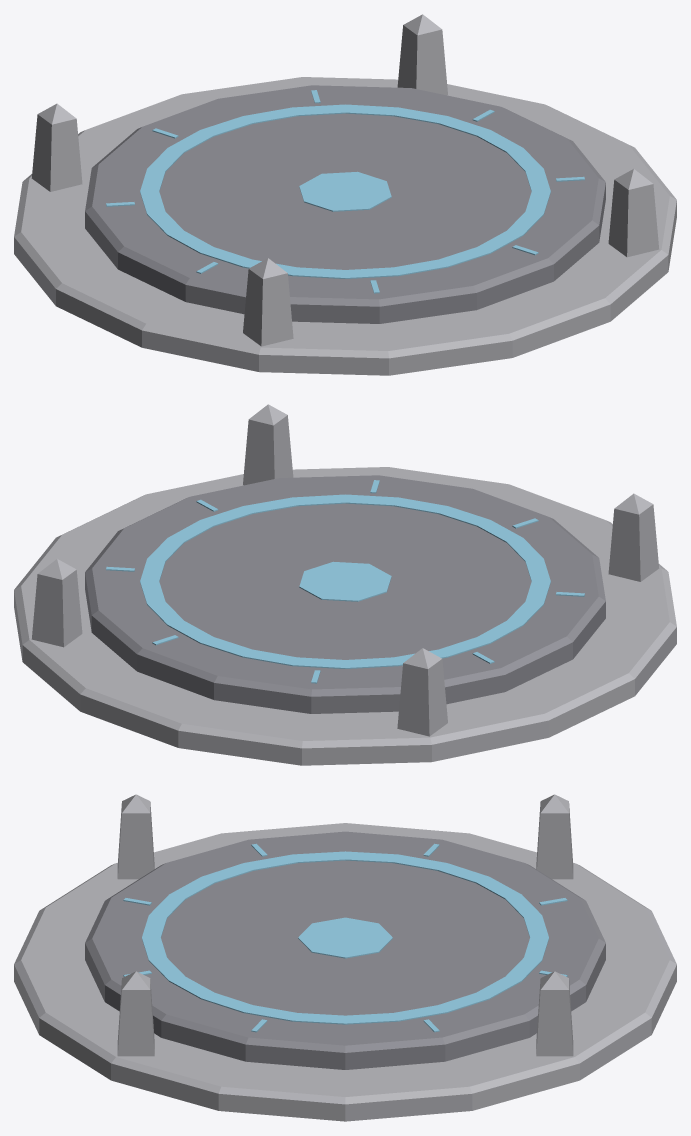
File: prop-ritual-dais-stone.glb
3 renders of one model, top to bottom at view 1: azimuth 30°, elevation 25°; view 2: azimuth 150°, elevation 25°; view 3: azimuth 270°, elevation 25°, orthographic.
Parts seen in each view (by area): view 1: prop-ritual-dais-stone; view 2: prop-ritual-dais-stone; view 3: prop-ritual-dais-stone.
Boxes of the visible parts, bbox=[...] form: prop-ritual-dais-stone: bbox=[14, 14, 676, 375]; prop-ritual-dais-stone: bbox=[14, 404, 676, 765]; prop-ritual-dais-stone: bbox=[14, 794, 676, 1121].
Bounding box in the file's own units: 2.8 × 0.46 × 2.8.
